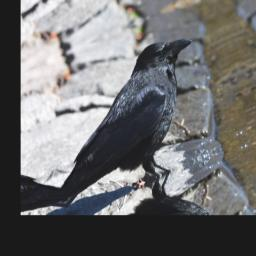Crow: (30, 26, 231, 215)
